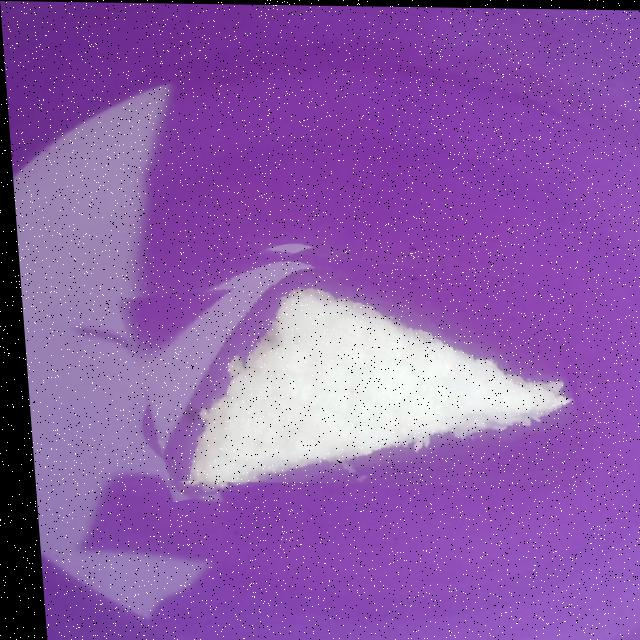litter: (116, 232, 577, 485)
